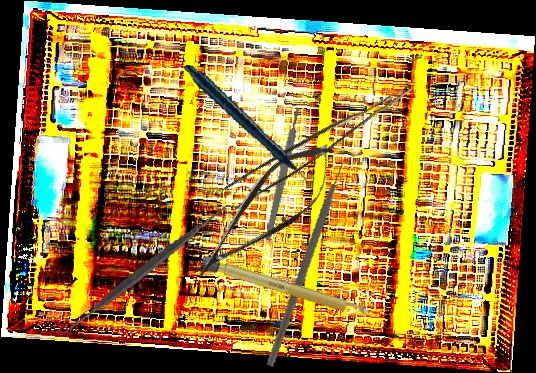Chopper: (227, 151, 403, 368)
Handpiece: (182, 48, 310, 207)
Micro Scissor: (177, 128, 352, 297)
Scalpel Handle: (199, 255, 372, 321), (263, 106, 303, 242)
Spatula Surgical: (53, 173, 242, 364)
Tissue Forceps: (222, 64, 413, 215)
